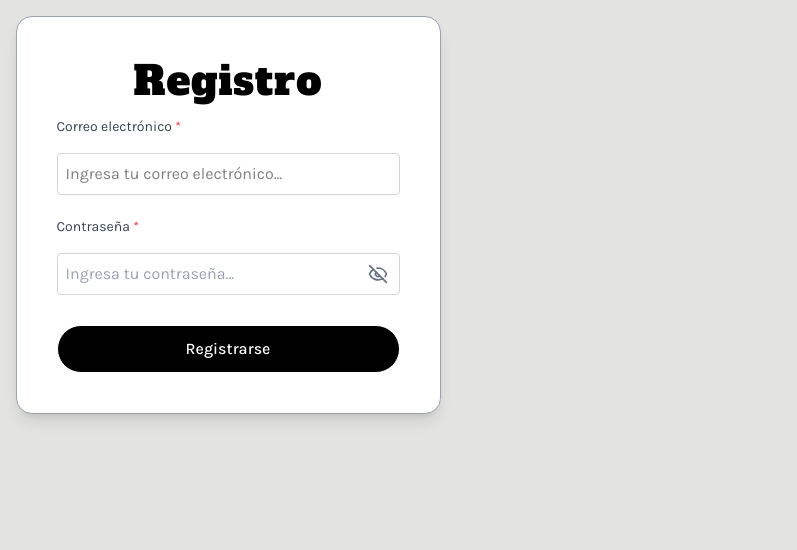
Scenario: signupPage › deberia mostrar un mensaje de exito si se registro de manera correcta
Step 1. Type "dariomurillochaverri@gmail.com" into the field with test id "email-input" → (228, 174), box top-left (56, 153), bottom-right (400, 195)
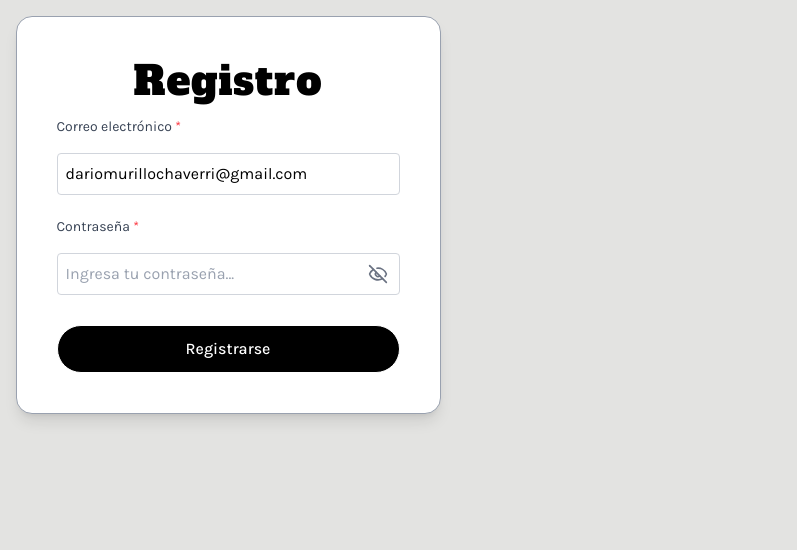
Step 2. Type "Admin.4534!" into the password field with test id "password-input" → (228, 274), box top-left (56, 253), bottom-right (400, 295)
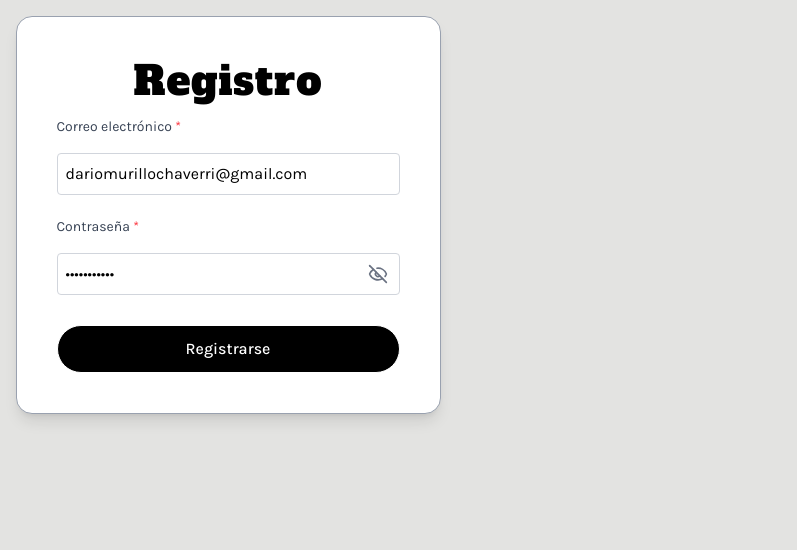
Step 3. Click the button "Registrarse" → (228, 349), box top-left (56, 325), bottom-right (400, 373)
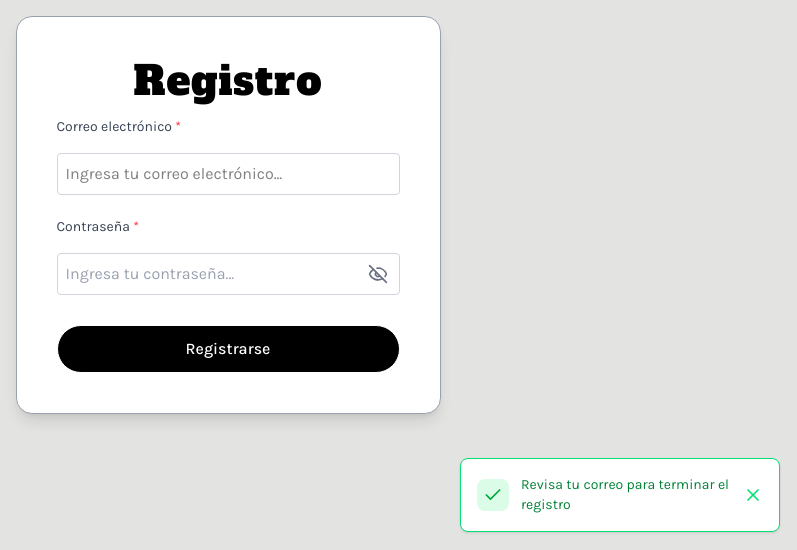
Now the text "Revisa tu correo para terminar el registro" is shown, box top-left (521, 475), bottom-right (737, 515)
